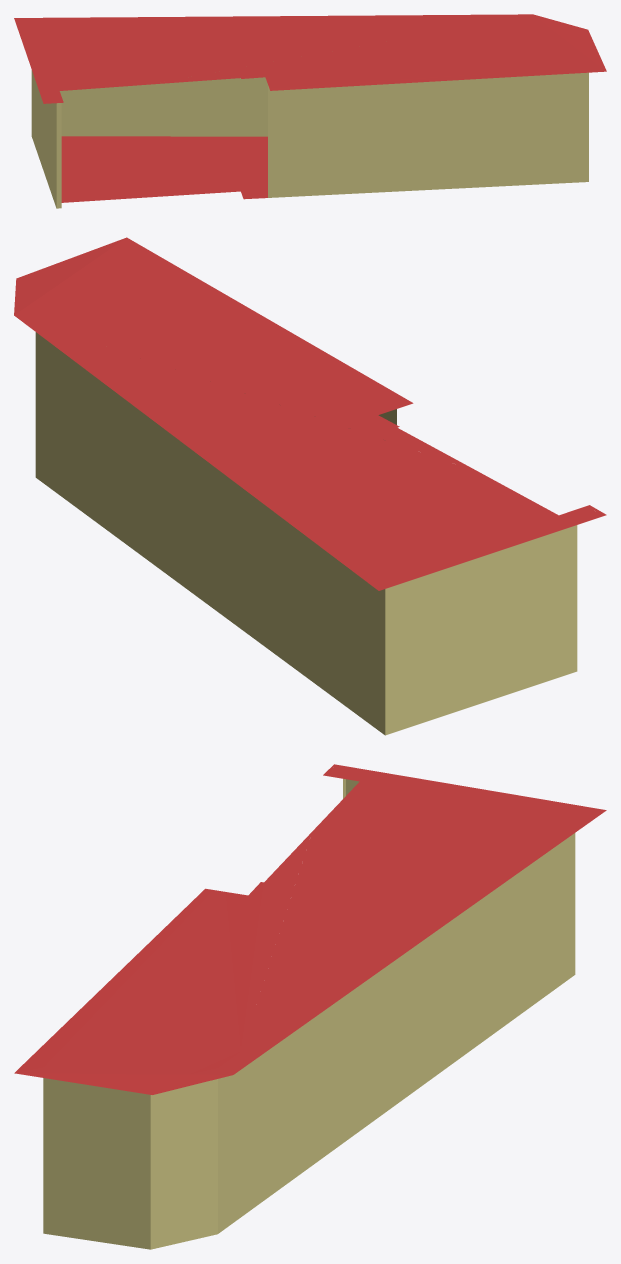
3 renders of one model, top to bottom at view 1: azimuth 30°, elevation 25°; view 2: azimuth 150°, elevation 25°; view 3: azimuth 270°, elevation 25°, orthographic. The views are drawn at different scales.
Visible parts, largest first — view 1: group_5, group_7, group_3, group_9, group_10, group_6; view 2: group_9, group_7, group_3, group_5; view 3: group_9, group_7, group_3, group_5.
Boxes of the visible parts, bbox=[...] form: group_5: bbox=[268, 72, 588, 197]; group_7: bbox=[14, 14, 547, 103]; group_3: bbox=[44, 14, 606, 103]; group_9: bbox=[31, 70, 267, 208]; group_10: bbox=[61, 136, 267, 202]; group_6: bbox=[150, 176, 267, 199]; group_9: bbox=[58, 349, 577, 735]; group_7: bbox=[14, 300, 606, 590]; group_3: bbox=[14, 237, 605, 514]; group_5: bbox=[35, 332, 396, 493]; group_9: bbox=[241, 778, 575, 1216]; group_7: bbox=[191, 764, 606, 1074]; group_3: bbox=[14, 765, 333, 1094]; group_5: bbox=[43, 1070, 240, 1249].
Bounding box in the file's own units: 27.36 × 20.43 × 6.32.
